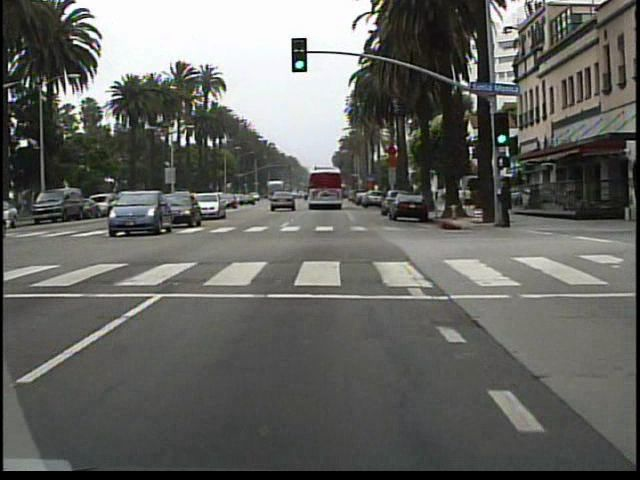person: (496, 176, 515, 231)
